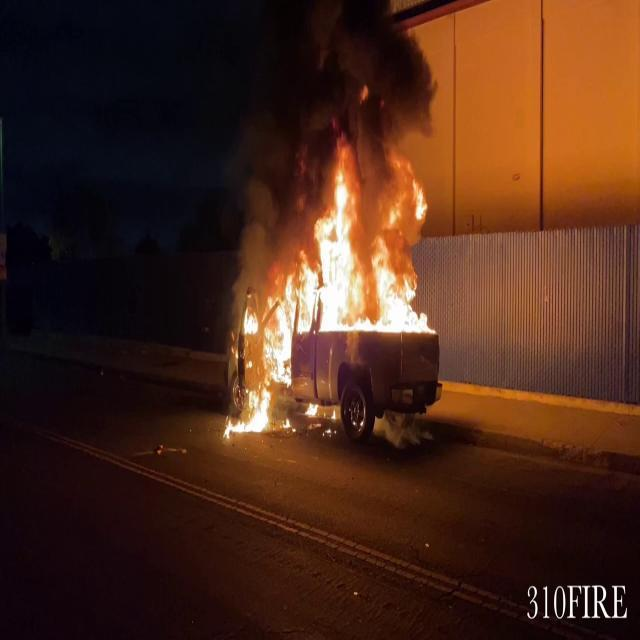Fire: (223, 149, 436, 433)
Smoke: (227, 1, 446, 232)
